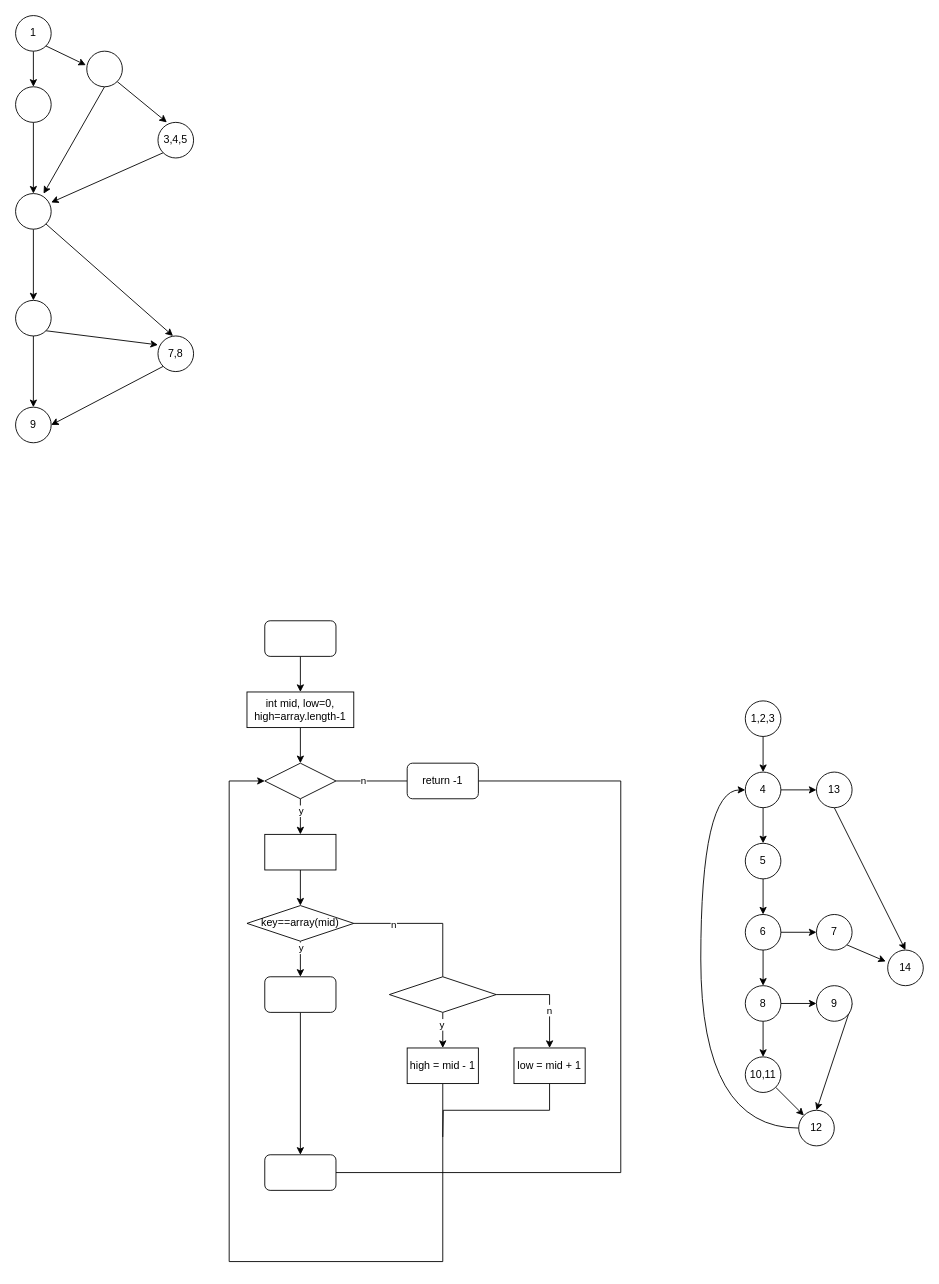
This 939x1284 diagram has some shape labels left out. Each missing label, with the centre of its shape:
"2.a" belongs at point (33, 104).
"2.b" belongs at point (104, 68).
"6.a" belongs at point (33, 211).
"6.b" belongs at point (33, 317).
"key<array(mid)" belongs at point (442, 994).
"low<=high" belongs at point (300, 780).
"mid = (low+high) / 2" belongs at point (300, 851).
"return mid" belongs at point (300, 994).
"开始" belongs at point (300, 638).
"结束" belongs at point (300, 1172).
